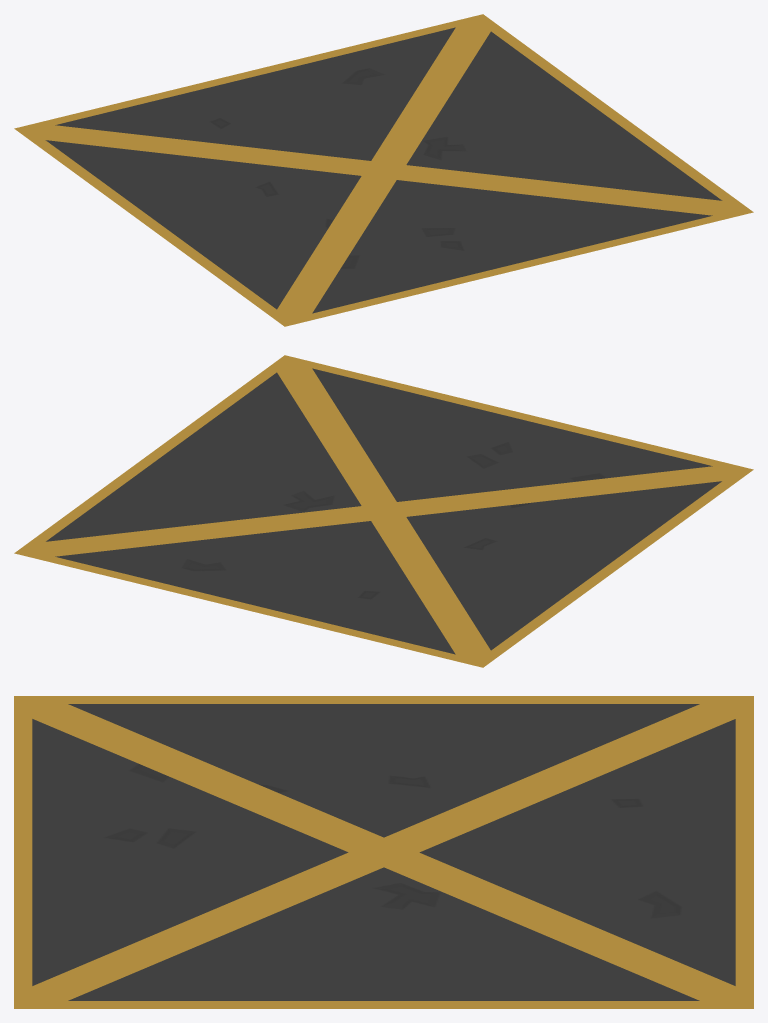
File: SM_Gen_Env_Road_Warning_01.glb
The picture shows the model from 3 angles, top to bottom: view 1: azimuth 30°, elevation 25°; view 2: azimuth 150°, elevation 25°; view 3: azimuth 270°, elevation 25°; orthographic projection. The views are drawn at different scales.
Parts seen in each view (by area): view 1: SM_Gen_Env_Road_Warning_012; view 2: SM_Gen_Env_Road_Warning_012; view 3: SM_Gen_Env_Road_Warning_012.
Boxes of the visible parts, x1,y1,x2,y2 form: SM_Gen_Env_Road_Warning_012: [14, 14, 753, 326]; SM_Gen_Env_Road_Warning_012: [14, 355, 753, 667]; SM_Gen_Env_Road_Warning_012: [14, 696, 753, 1008].
Bounding box in the file's own units: 5 × 0 × 5.
Materials: 1 (1 with a texture image).
